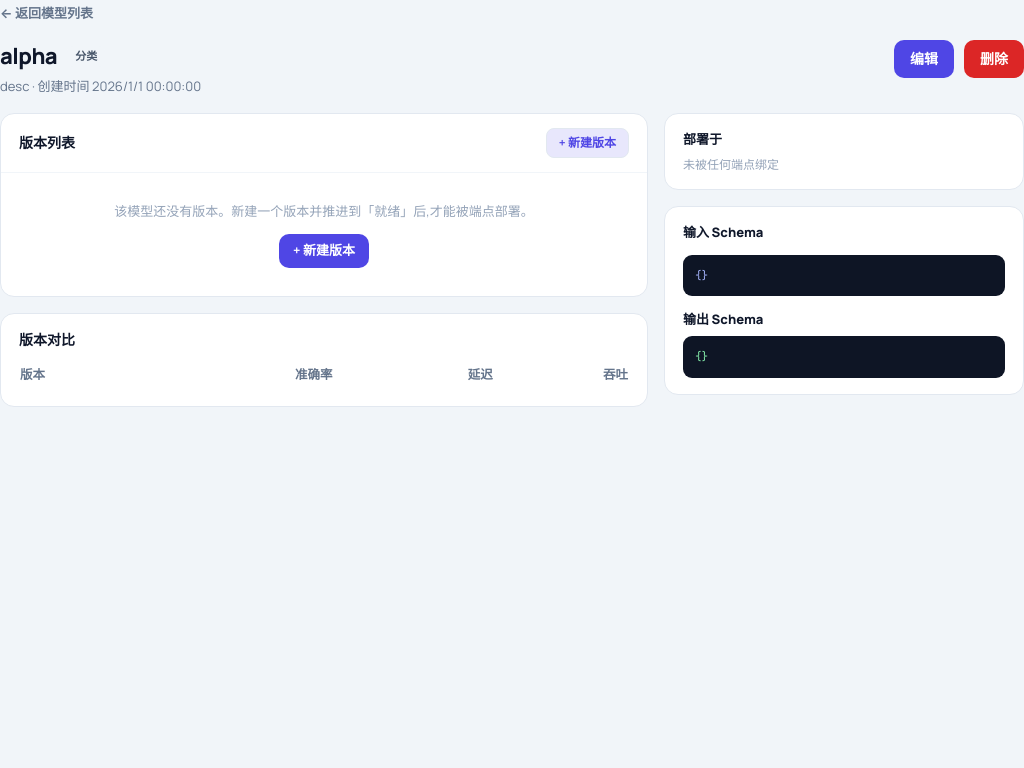
Test: ModelDetailPage 编辑/删除 › 删除被端点绑定(409)→ 页内提示、不跳转
The width and height of the screenshot is (1024, 768).
Click the button with test id "delete-model".
click(994, 59)  # box [964, 40, 1023, 78]
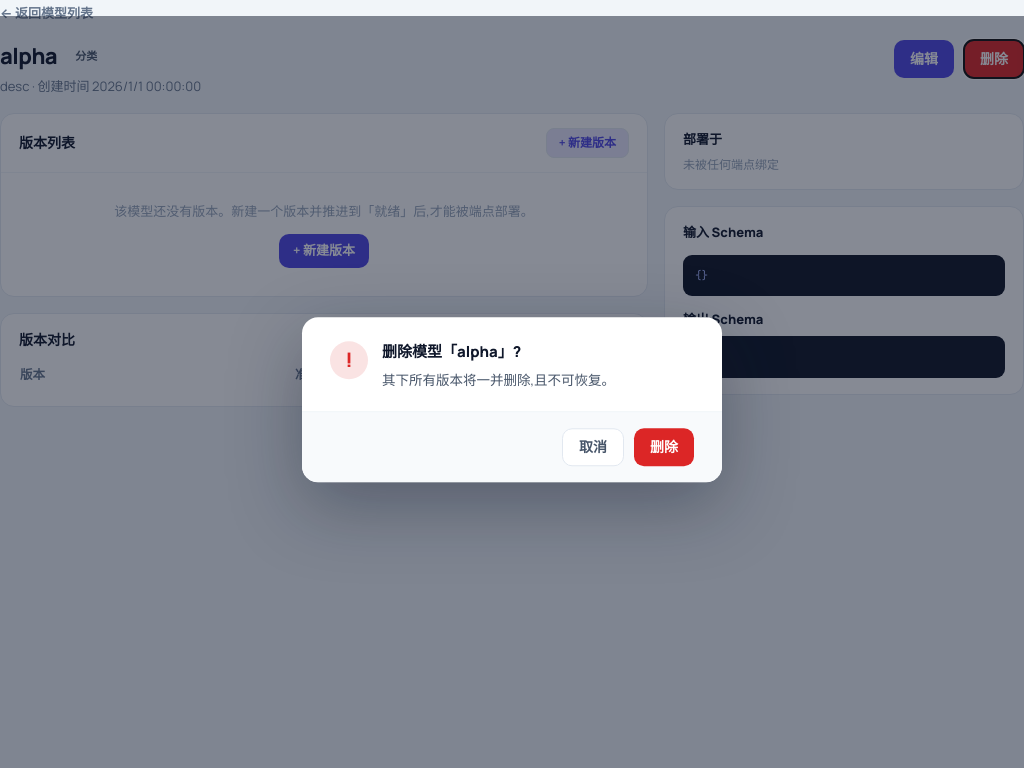
Click the button with test id "confirm-yes".
click(664, 448)  # box [634, 429, 694, 467]
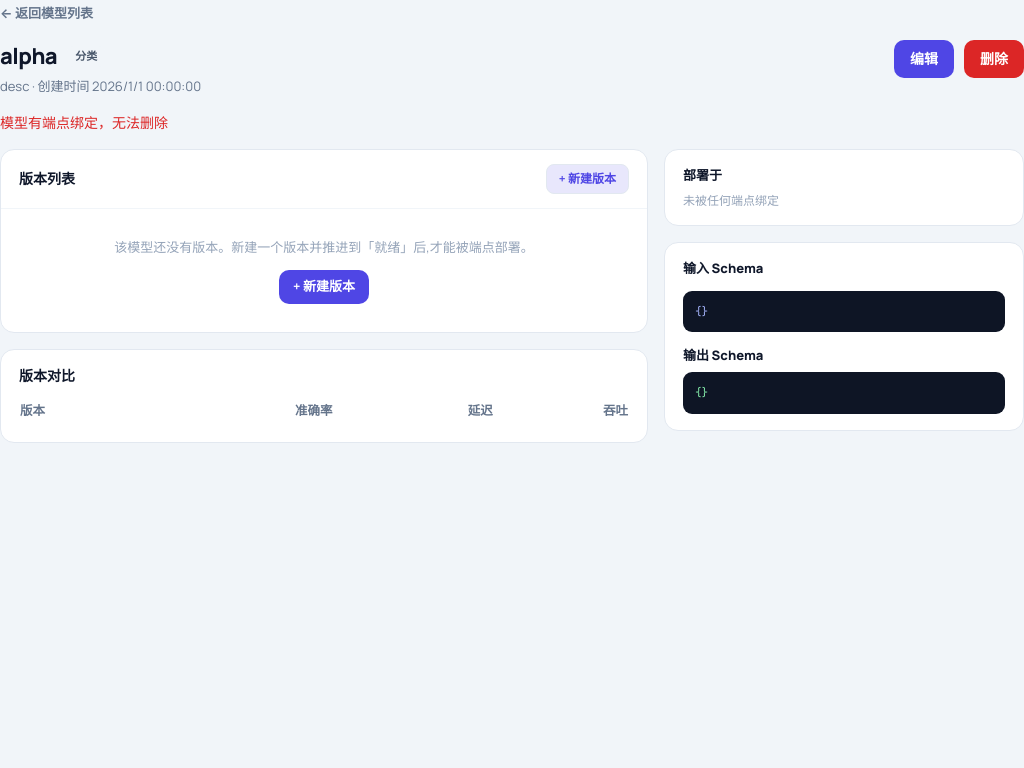
Expected: the text with test id "action-error" shows "模型有端点绑定", [0, 112, 168, 132]
